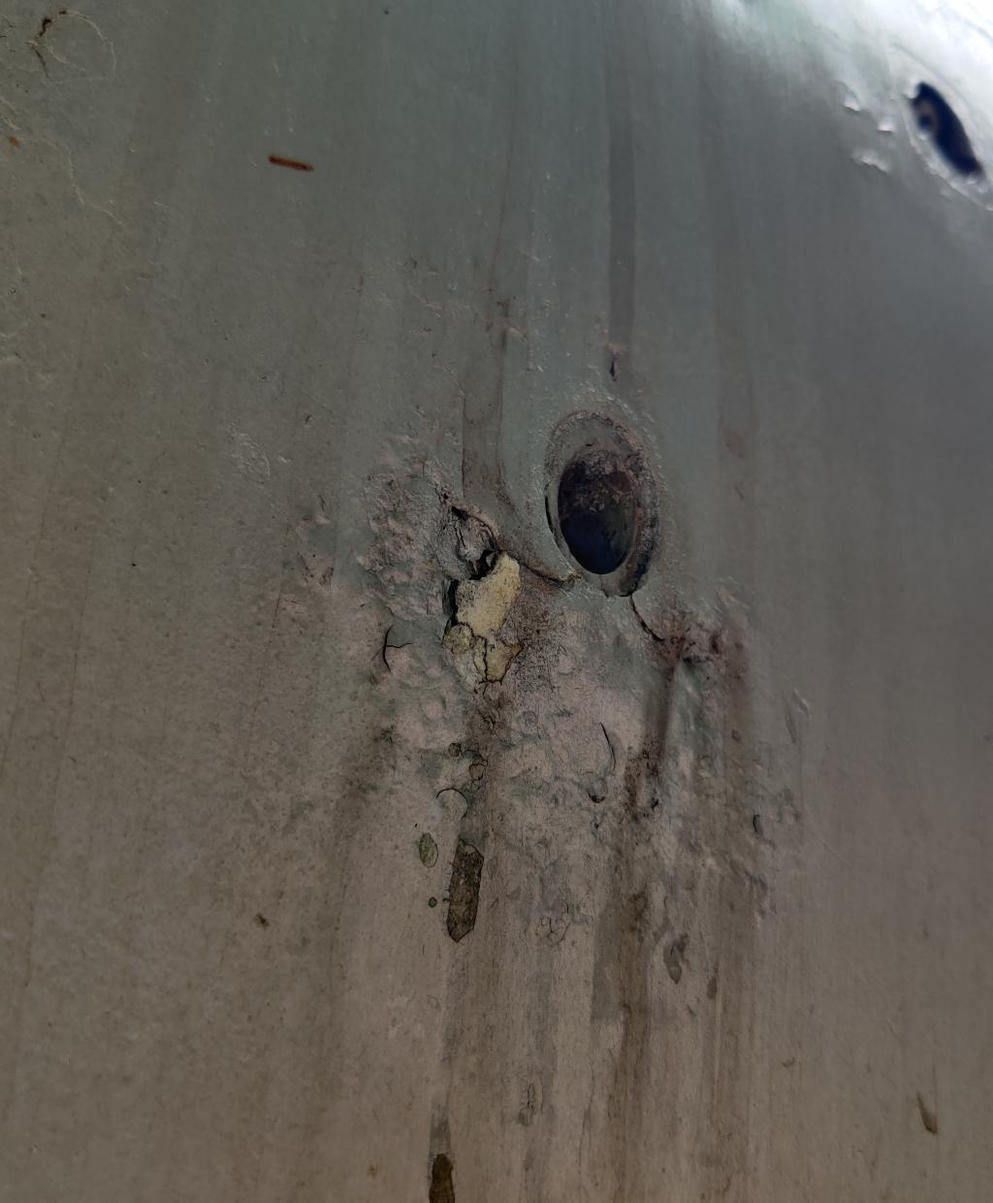crack: (397, 493, 573, 706)
